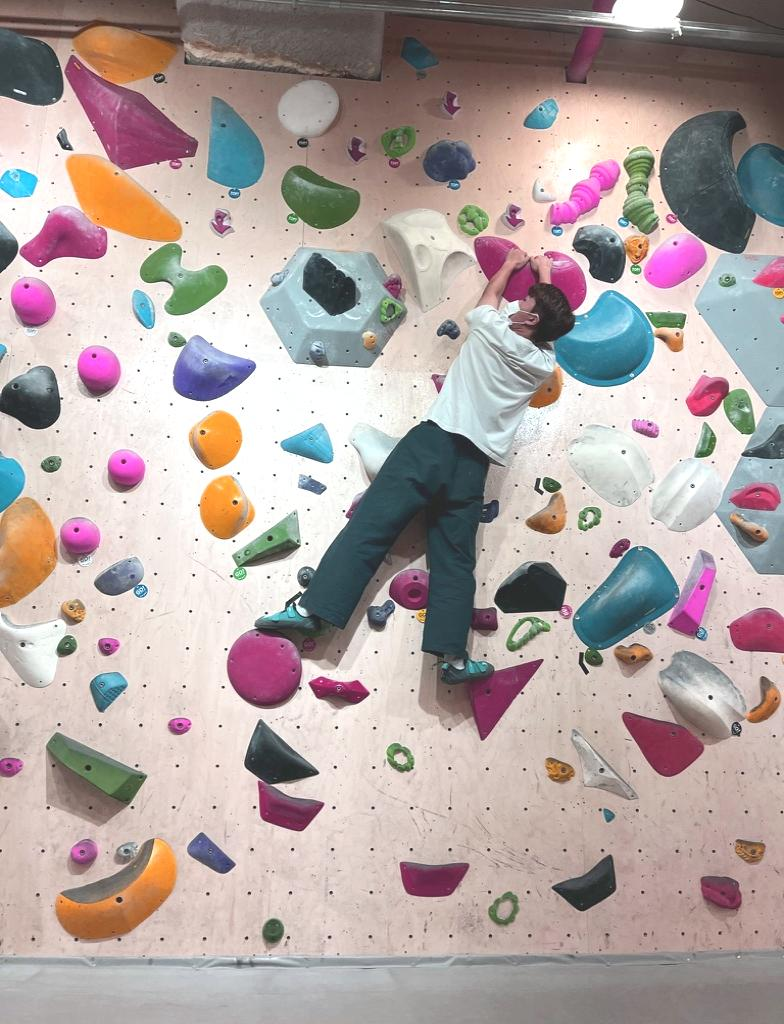crimp: (96, 556, 143, 595)
jib: (506, 616, 550, 651), (387, 743, 413, 771), (309, 340, 323, 365), (362, 331, 376, 348)
jug: (66, 155, 181, 241), (228, 630, 299, 706), (550, 160, 619, 224), (279, 81, 339, 139), (303, 254, 356, 314), (623, 146, 658, 233), (425, 140, 475, 181)
ledge: (555, 290, 653, 386), (174, 335, 255, 400), (0, 612, 65, 687), (281, 166, 359, 228)
pinch: (141, 243, 227, 314)
sidepull: (662, 111, 754, 252), (207, 97, 263, 186), (200, 475, 254, 537), (190, 410, 241, 468)
sloper: (11, 277, 55, 327), (78, 345, 120, 393), (60, 517, 99, 553), (108, 450, 145, 487)
volume: (260, 247, 405, 365), (696, 254, 783, 405)
